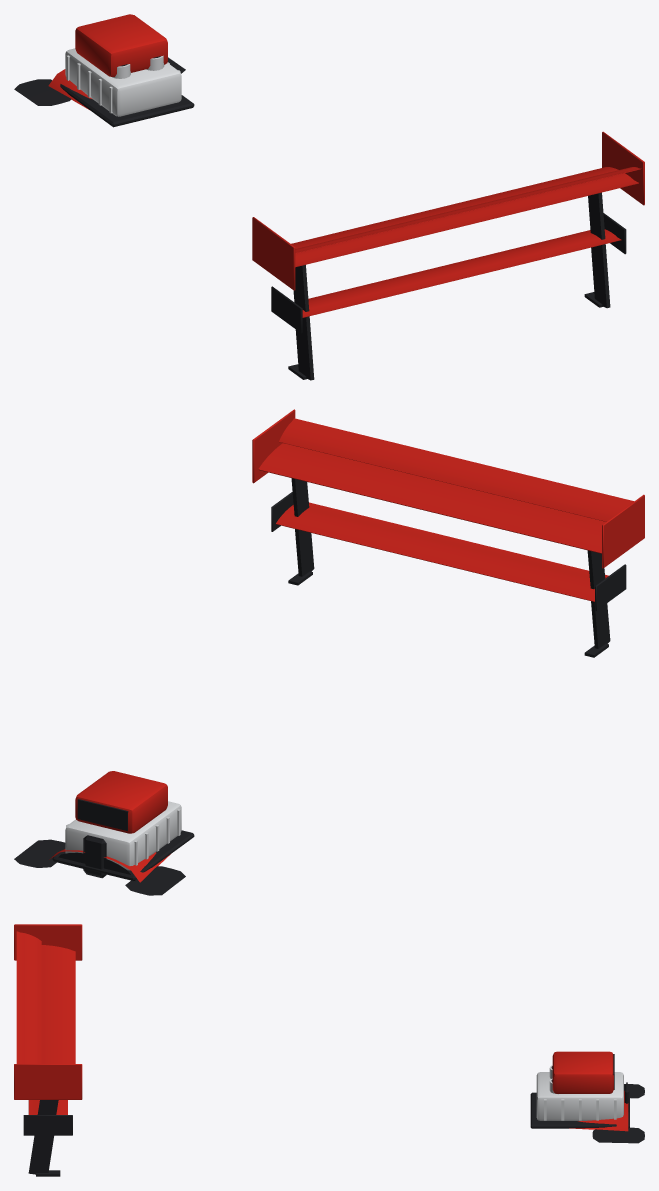
Rendered from monster_truck_kit.glb.
3 renders of one model, top to bottom at view 1: azimuth 30°, elevation 25°; view 2: azimuth 150°, elevation 25°; view 3: azimuth 270°, elevation 25°, orthographic. The views are drawn at different scales.
Parts seen in each view (by area): view 1: spoiler_mega, bonnet_blower, spoiler_wing, bonnet_vents; view 2: spoiler_mega, spoiler_wing, bonnet_blower, bonnet_vents, bonnet_scoop; view 3: spoiler_mega, bonnet_blower, spoiler_wing, bonnet_vents, bonnet_scoop.
Boxes of the visible parts, bbox=[...] form: spoiler_mega: bbox=[252, 131, 644, 380]; bonnet_blower: bbox=[60, 14, 194, 127]; spoiler_wing: bbox=[271, 213, 626, 373]; bonnet_vents: bbox=[14, 57, 185, 105]; spoiler_mega: bbox=[252, 409, 644, 657]; spoiler_wing: bbox=[271, 492, 626, 648]; bonnet_blower: bbox=[52, 771, 194, 880]; bonnet_vents: bbox=[14, 839, 185, 895]; bonnet_scoop: bbox=[49, 849, 170, 882]; spoiler_mega: bbox=[14, 924, 82, 1176]; bonnet_blower: bbox=[530, 1051, 629, 1128]; spoiler_wing: bbox=[23, 1100, 72, 1172]; bonnet_vents: bbox=[592, 1084, 644, 1143]; bonnet_scoop: bbox=[569, 1090, 628, 1131].
Bounding box in the file's own units: 2.18 × 0.8912 × 4.15.
